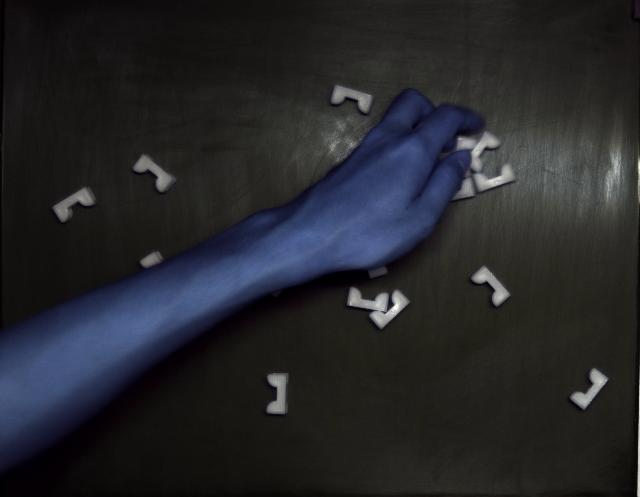third_side: (132, 154, 176, 192), (471, 266, 510, 308), (370, 290, 410, 330), (570, 369, 609, 410), (52, 188, 98, 222), (330, 85, 374, 114), (348, 288, 389, 312), (266, 374, 289, 415)
